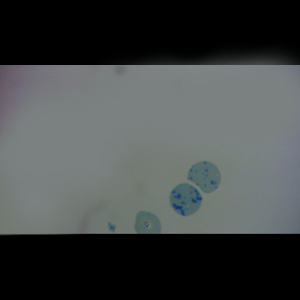aggregate reticulocyte: (185, 160, 222, 194), (169, 182, 204, 217)
